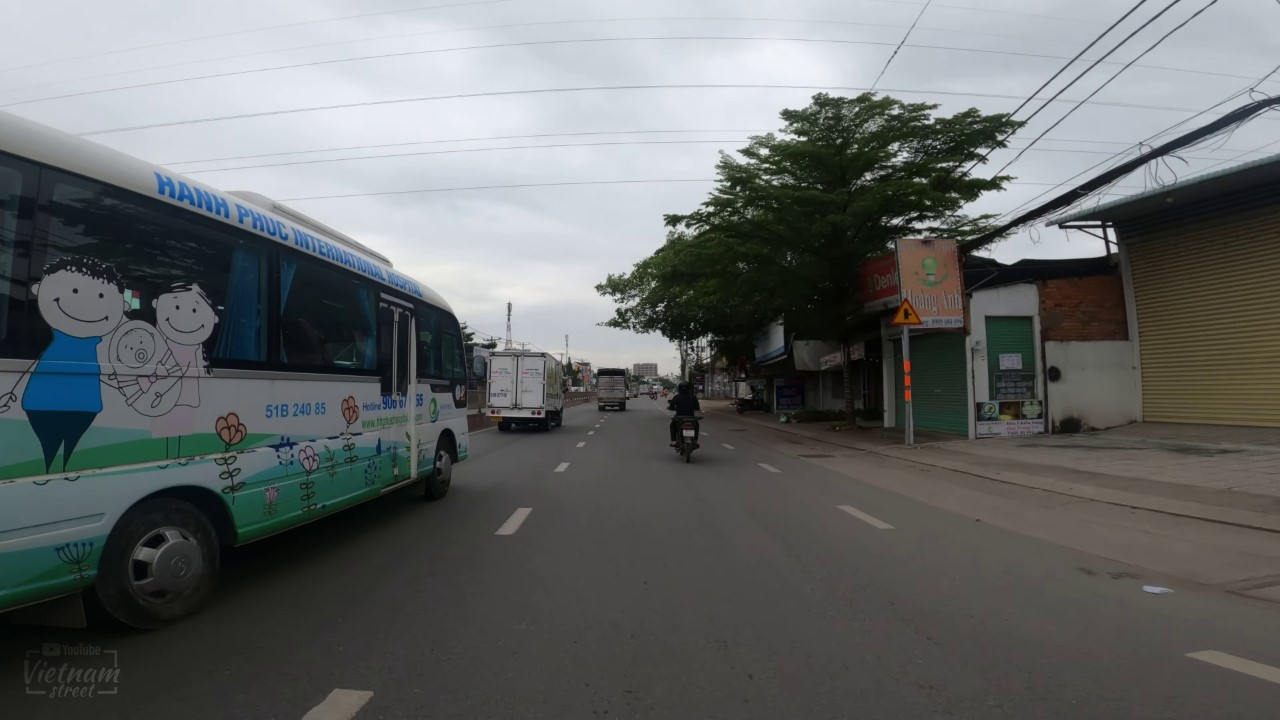giao_khong_uu_tien_phai: (891, 294, 923, 328)
